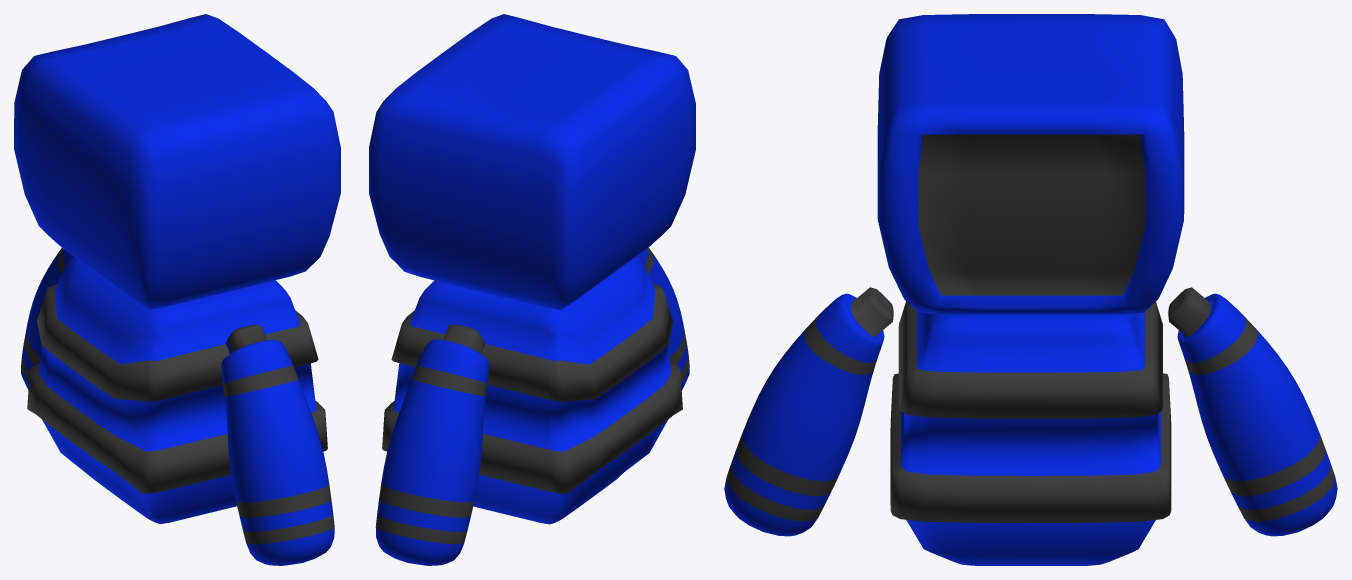
The model's file is Robot4.fbx.
3 renders of one model, left to right at view 1: azimuth 30°, elevation 25°; view 2: azimuth 150°, elevation 25°; view 3: azimuth 270°, elevation 25°, orthographic. The views are drawn at different scales.
Parts seen in each view (by area): view 1: Cube.003, Cube.004, Cube.005; view 2: Cube.003, Cube.004, Cube.005; view 3: Cube.003, Cube.004, Cube.005.
Part boxes in pixels (x1,y1,x2,y2): Cube.003: [14, 14, 340, 309]; Cube.004: [27, 257, 327, 523]; Cube.005: [21, 248, 334, 565]; Cube.003: [369, 14, 695, 309]; Cube.004: [382, 257, 682, 524]; Cube.005: [375, 247, 689, 565]; Cube.003: [877, 14, 1184, 314]; Cube.004: [890, 301, 1171, 565]; Cube.005: [724, 287, 1337, 536].
Bounding box in the file's own units: 252 × 479 × 558.
